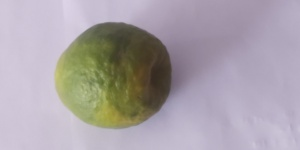BAD: (56, 22, 173, 131)
